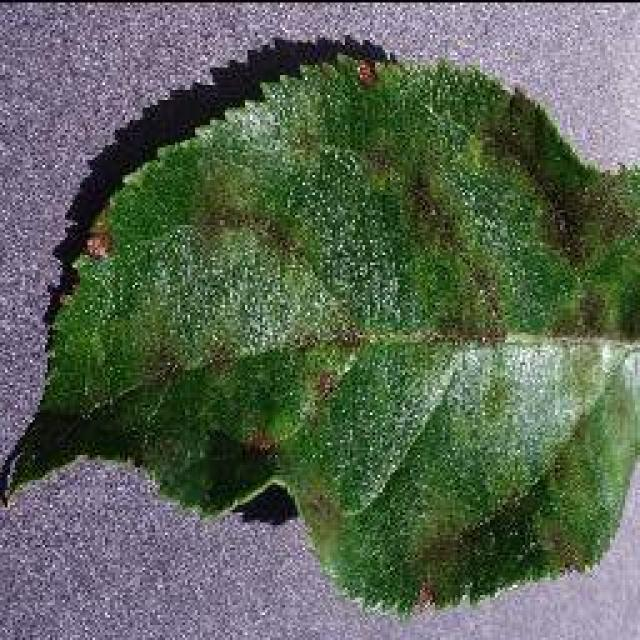apple scab disease: (5, 42, 637, 620)
